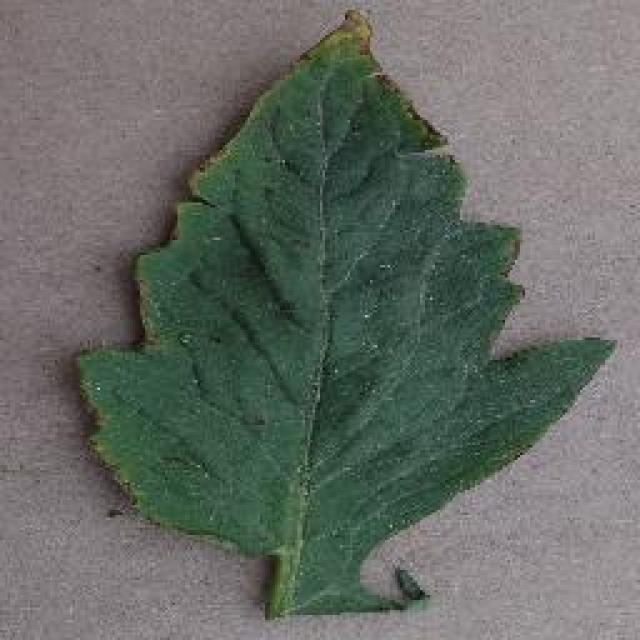Tomato___Bacterial_spot: (80, 11, 627, 621)
